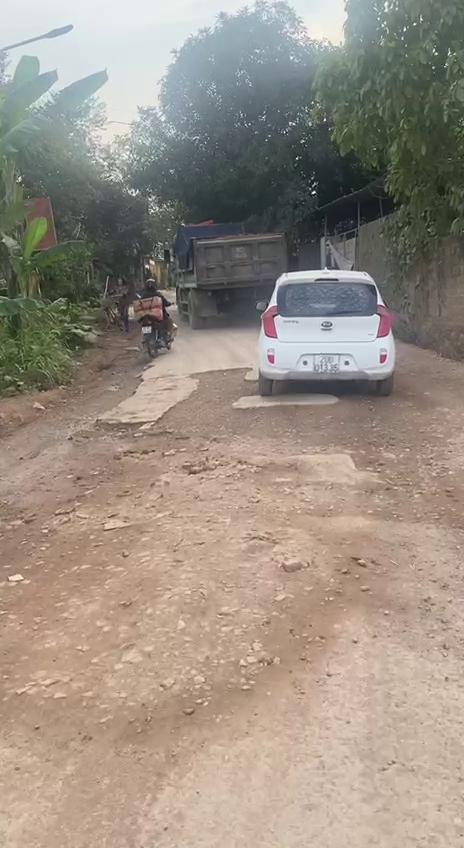pothole: (50, 420, 300, 536), (276, 400, 464, 534), (153, 364, 275, 446)
